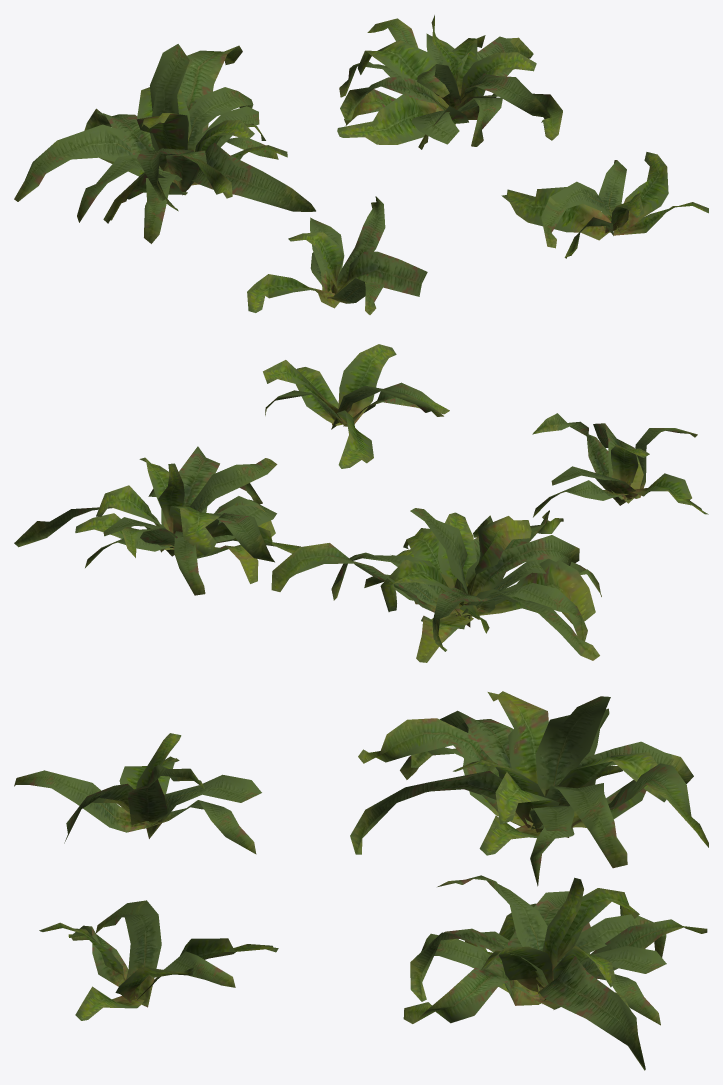
File: fern_02.glb
3 views of the same model, one above another, from view 1: azimuth 30°, elevation 25°; view 2: azimuth 150°, elevation 25°; view 3: azimuth 270°, elevation 25° (orthographic). The views are drawn at different scales.
Parts seen in each view (by area): view 1: fern_02_b; view 2: fern_02_b; view 3: fern_02_b.
Boxes of the visible parts, x1=… form: fern_02_b: x1=14, y1=15, x2=708, y2=314; fern_02_b: x1=14, y1=344, x2=708, y2=662; fern_02_b: x1=14, y1=691, x2=708, y2=1070.
Size of the model in its own units: 1.97 by 0.4277 by 1.72.
1 material, 1 textured.
